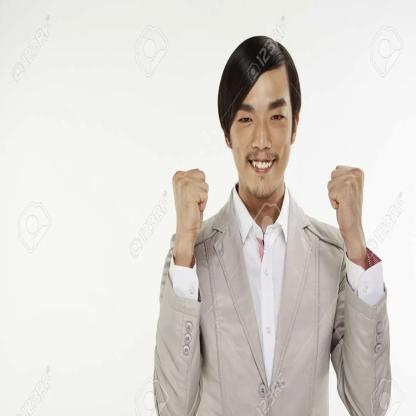fist: (320, 156, 362, 239), (166, 169, 213, 234)
